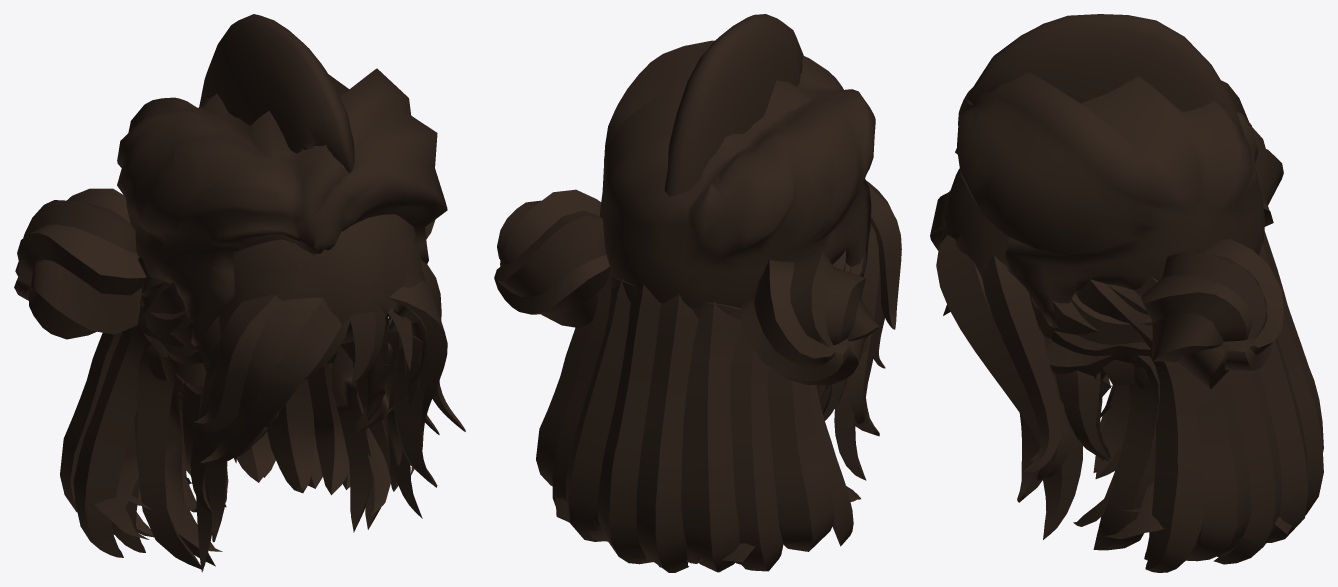
File: hair.glb
3 views of the same model, side by side, from view 1: azimuth 30°, elevation 25°; view 2: azimuth 150°, elevation 25°; view 3: azimuth 270°, elevation 25° (orthographic). The views are drawn at different scales.
Visible parts, largest first — view 1: hair/hair_curly/male, hair/hair_long/male, hair/hair_bun/male, hair/hair_ponytail/male, hair/hair_ponytail/female, hair/hair_mohawk/male; view 2: hair/hair_long/male, hair/hair_curly/male, hair/hair_bun/male, hair/hair_mohawk/male, hair/hair_ponytail/male; view 3: hair/hair_long/male, hair/hair_curly/male, hair/hair_bun/male, hair/hair_mohawk/male, hair/hair_ponytail/male, hair/hair_ponytail/female.
Part boxes in pixels (x1,y1,x2,y2): hair/hair_curly/male: [117, 68, 447, 346]; hair/hair_long/male: [60, 260, 465, 570]; hair/hair_bun/male: [14, 188, 437, 572]; hair/hair_ponytail/male: [94, 214, 439, 551]; hair/hair_ponytail/female: [112, 306, 427, 566]; hair/hair_mohawk/male: [199, 14, 354, 173]; hair/hair_long/male: [536, 180, 901, 572]; hair/hair_curly/male: [600, 40, 875, 308]; hair/hair_bun/male: [494, 189, 879, 480]; hair/hair_mohawk/male: [664, 14, 803, 196]; hair/hair_ponytail/male: [555, 223, 872, 567]; hair/hair_long/male: [930, 192, 1323, 572]; hair/hair_curly/male: [955, 73, 1264, 328]; hair/hair_bun/male: [943, 127, 1283, 539]; hair/hair_mohawk/male: [965, 14, 1244, 136]; hair/hair_ponytail/male: [941, 168, 1291, 538]; hair/hair_ponytail/female: [942, 233, 1242, 560].
Size of the model in its own units: 0.3015 by 0.3889 by 0.2705.
